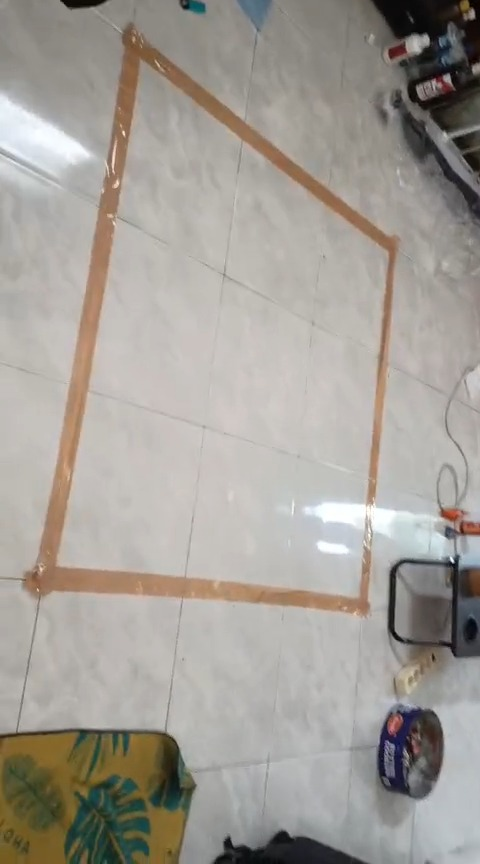floor marking: (25, 25, 396, 613)
